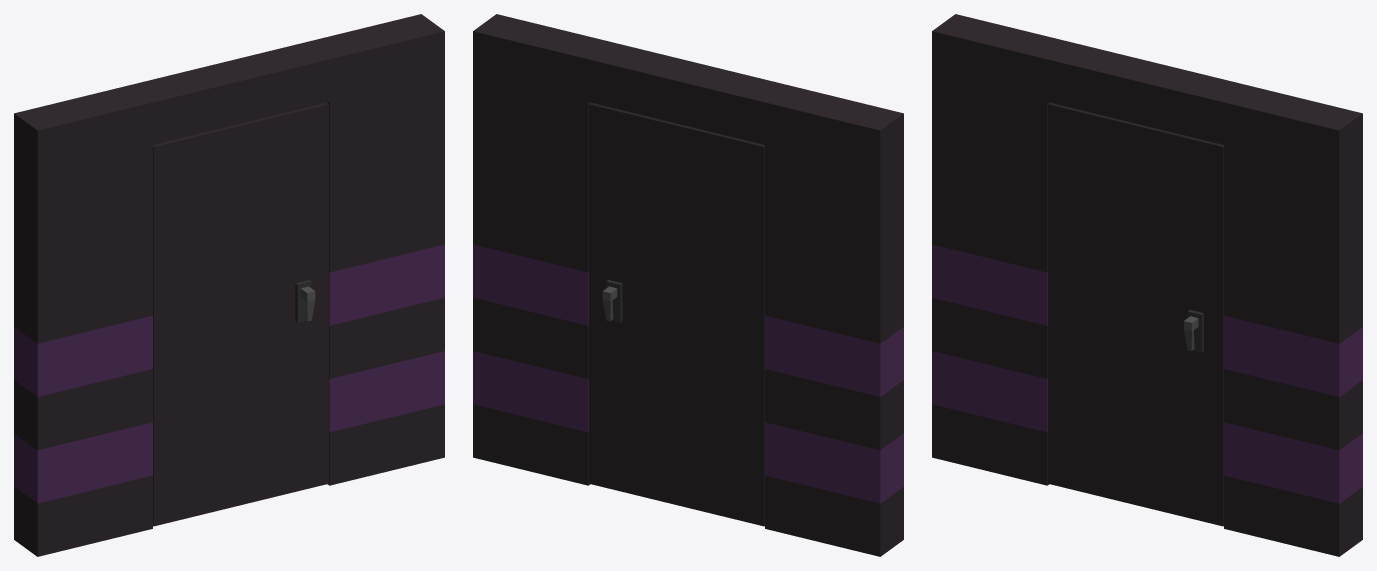
Rendered from Door Way.fbx.
The picture shows the model from 3 angles, left to right: view 1: azimuth 30°, elevation 25°; view 2: azimuth 150°, elevation 25°; view 3: azimuth 330°, elevation 25°; orthographic projection.
Visible parts, largest first — view 1: Door Way, Door; view 2: Door Way, Door; view 3: Door Way, Door.
Boxes of the visible parts, box(x1,y1,x2,y2) form: Door Way: box(14, 14, 444, 556); Door: box(153, 103, 328, 526); Door Way: box(473, 14, 903, 556); Door: box(589, 103, 764, 526); Door Way: box(932, 14, 1362, 556); Door: box(1048, 103, 1223, 526).
Size of the model in its own units: 2000 by 2000 by 352.
